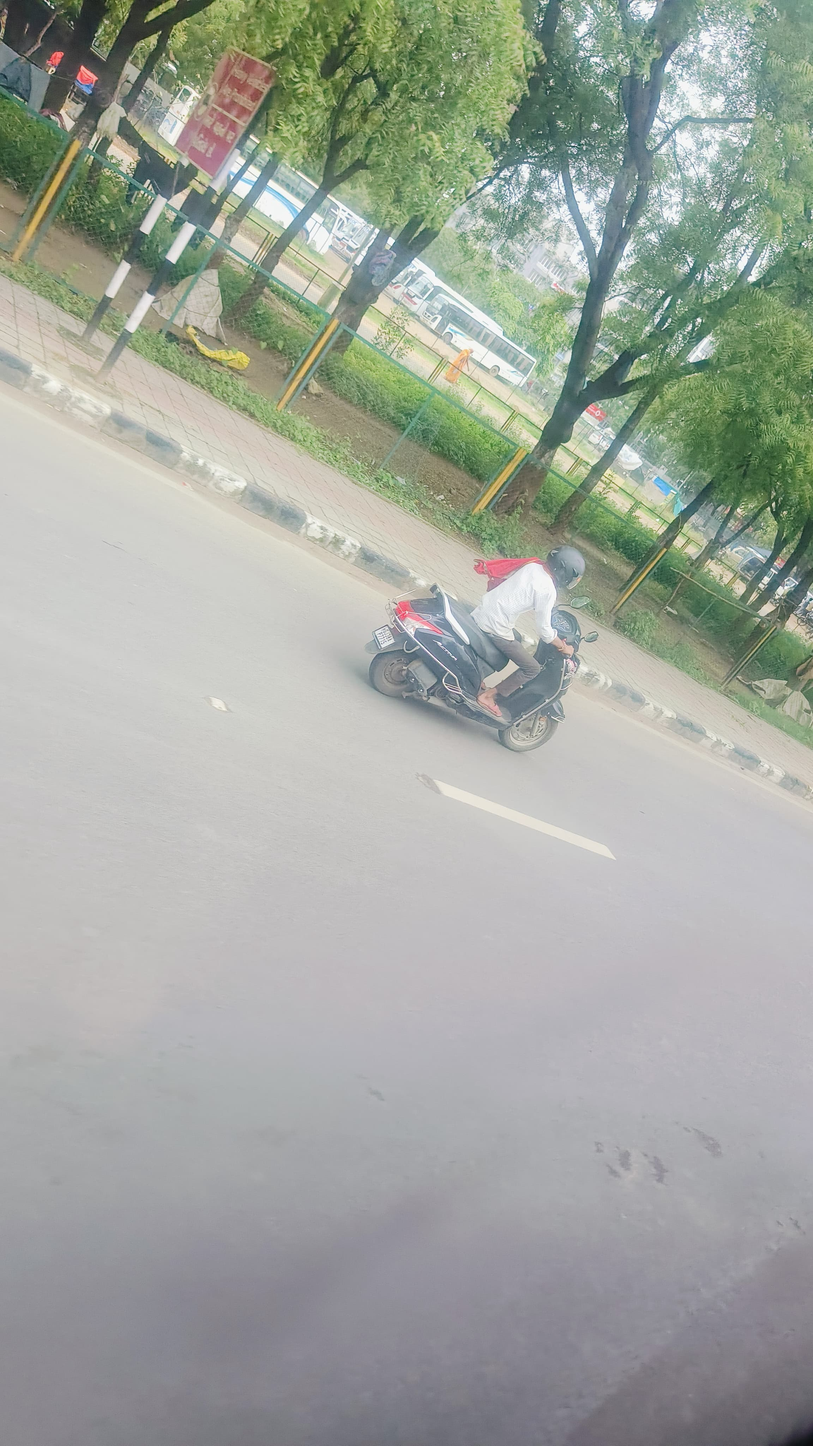BikeWithRider: (356, 512, 610, 779)
Helmet: (533, 539, 591, 601)
